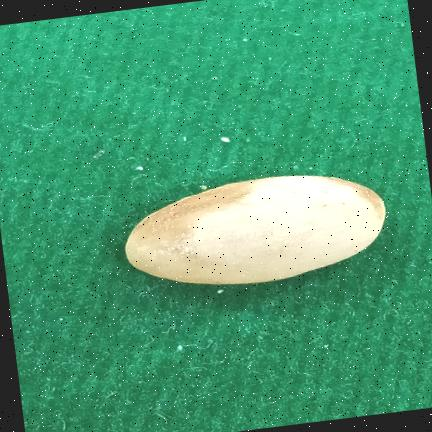parchment: (125, 175, 385, 284)
